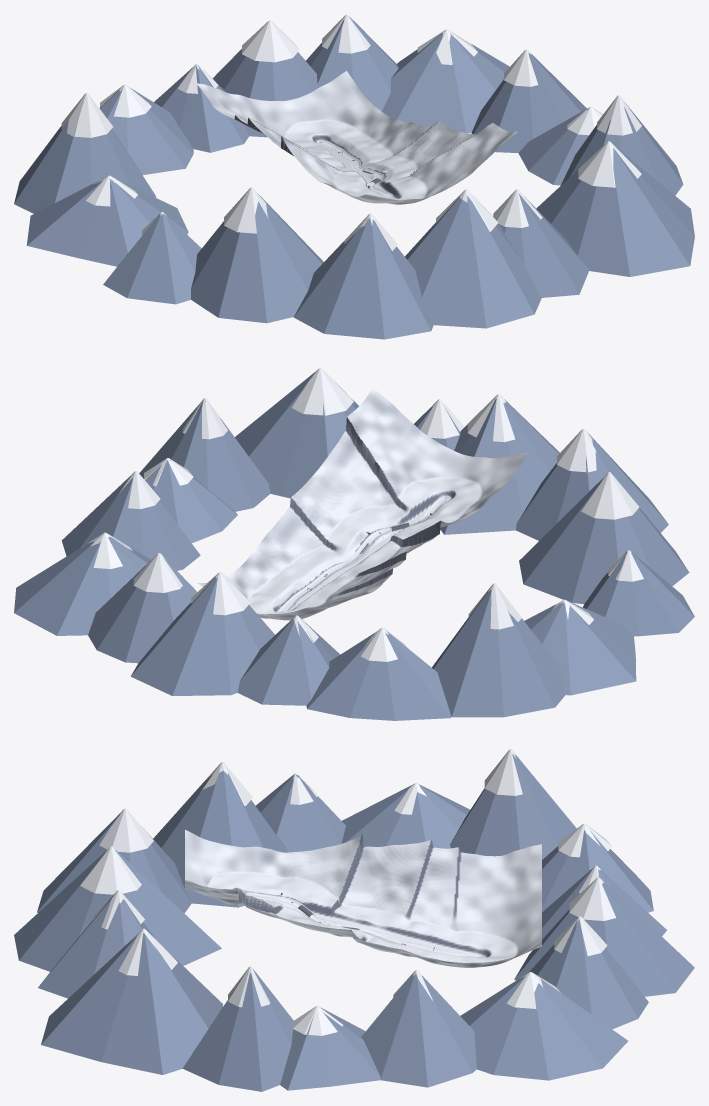
Rendered from estacao_abandonada.glb.
3 renders of one model, top to bottom at view 1: azimuth 30°, elevation 25°; view 2: azimuth 150°, elevation 25°; view 3: azimuth 270°, elevation 25°, orthographic. The views are drawn at different scales.
Visible parts, largest first — view 1: terrain, mtn2, mtn4, mtn5, mtn6, mtn14, mtn8, mtn9, mtn7, mtn15, mtn3, mtn10 (+19 smaller); view 2: terrain, mtn9, mtn6, mtn12, mtn10, mtn14, mtn2, mtn8, mtn4, mtn1, mtn11, mtn13 (+19 smaller); view 3: terrain, mtn2, mtn14, mtn15, mtn4, mtn1, mtn9, mtn6, mtn12, mtn13, mtn8, mtn0 (+18 smaller).
Boxes of the visible parts, left/top/right/bottom form: terrain: left=196, top=71, right=517, bottom=204; mtn2: left=536, top=144, right=694, bottom=276; mtn4: left=405, top=196, right=541, bottom=328; mtn5: left=293, top=218, right=433, bottom=339; mtn6: left=191, top=194, right=323, bottom=323; mtn14: left=382, top=33, right=509, bottom=133; mtn8: left=26, top=177, right=188, bottom=266; mtn9: left=14, top=119, right=156, bottom=213; mtn7: left=103, top=213, right=201, bottom=304; mtn15: left=471, top=52, right=586, bottom=152; mtn3: left=495, top=193, right=588, bottom=297; mtn10: left=99, top=88, right=193, bottom=175; terrain: left=197, top=388, right=527, bottom=620; mtn9: left=432, top=588, right=565, bottom=717; mtn6: left=519, top=478, right=689, bottom=604; mtn12: left=130, top=577, right=274, bottom=695; mtn10: left=306, top=631, right=451, bottom=720; mtn14: left=14, top=537, right=150, bottom=635; mtn2: left=235, top=371, right=358, bottom=498; mtn8: left=524, top=601, right=636, bottom=695; mtn4: left=440, top=399, right=559, bottom=534; mtn1: left=139, top=400, right=270, bottom=511; mtn11: left=237, top=619, right=340, bottom=705; mtn13: left=88, top=558, right=197, bottom=663; terrain: left=185, top=830, right=541, bottom=967; mtn2: left=41, top=933, right=223, bottom=1074; mtn14: left=460, top=975, right=627, bottom=1080; mtn15: left=361, top=973, right=476, bottom=1087; mtn4: left=14, top=850, right=221, bottom=971; mtn1: left=182, top=969, right=294, bottom=1091; mtn9: left=450, top=754, right=576, bottom=859; mtn6: left=153, top=770, right=288, bottom=907; mtn12: left=514, top=882, right=694, bottom=996; mtn13: left=529, top=918, right=648, bottom=1029; mtn8: left=341, top=784, right=469, bottom=848; mtn0: left=280, top=1007, right=380, bottom=1090.
Size of what is drawn, in the model's own units: 3024 by 552 by 3011.
